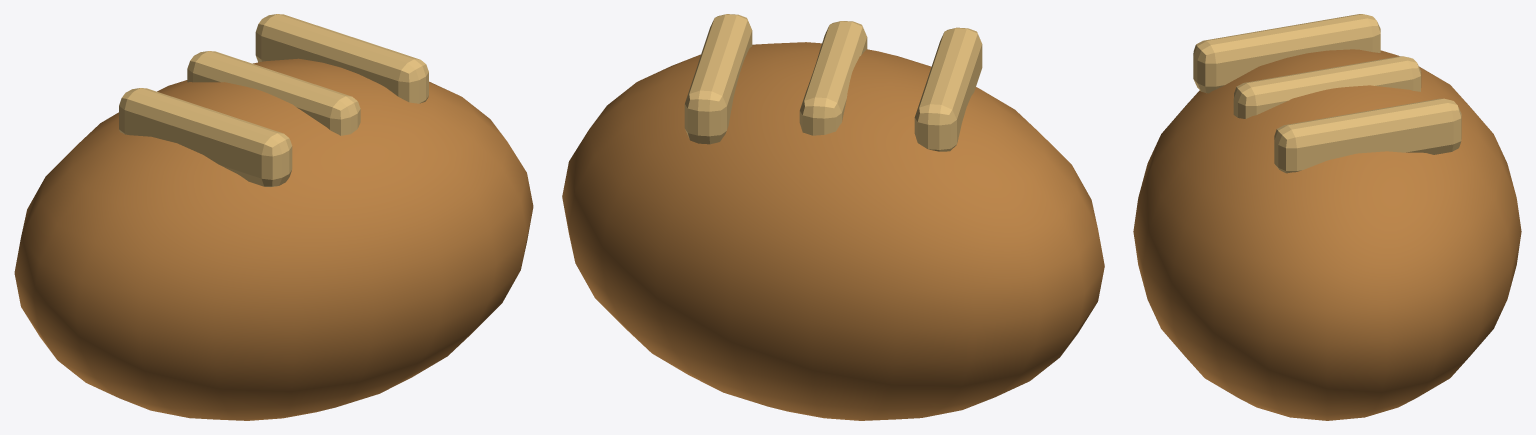
Rendered from bread.glb.
3 renders of one model, left to right at view 1: azimuth 30°, elevation 25°; view 2: azimuth 150°, elevation 25°; view 3: azimuth 270°, elevation 25°, orthographic. The views are drawn at different scales.
Parts seen in each view (by area): view 1: bread; view 2: bread; view 3: bread.
Part boxes in pixels (bbox=[...]): bread: bbox=[14, 14, 533, 420]; bread: bbox=[562, 14, 1104, 420]; bread: bbox=[1133, 14, 1521, 420].
Bounding box in the file's own units: 0.3 × 0.191 × 0.216.
